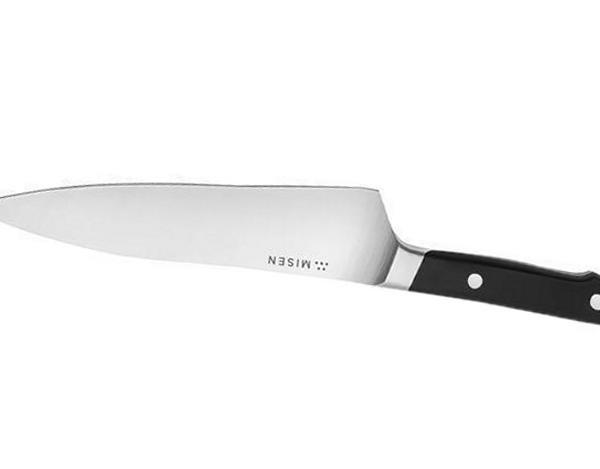knife: (2, 182, 600, 324)
